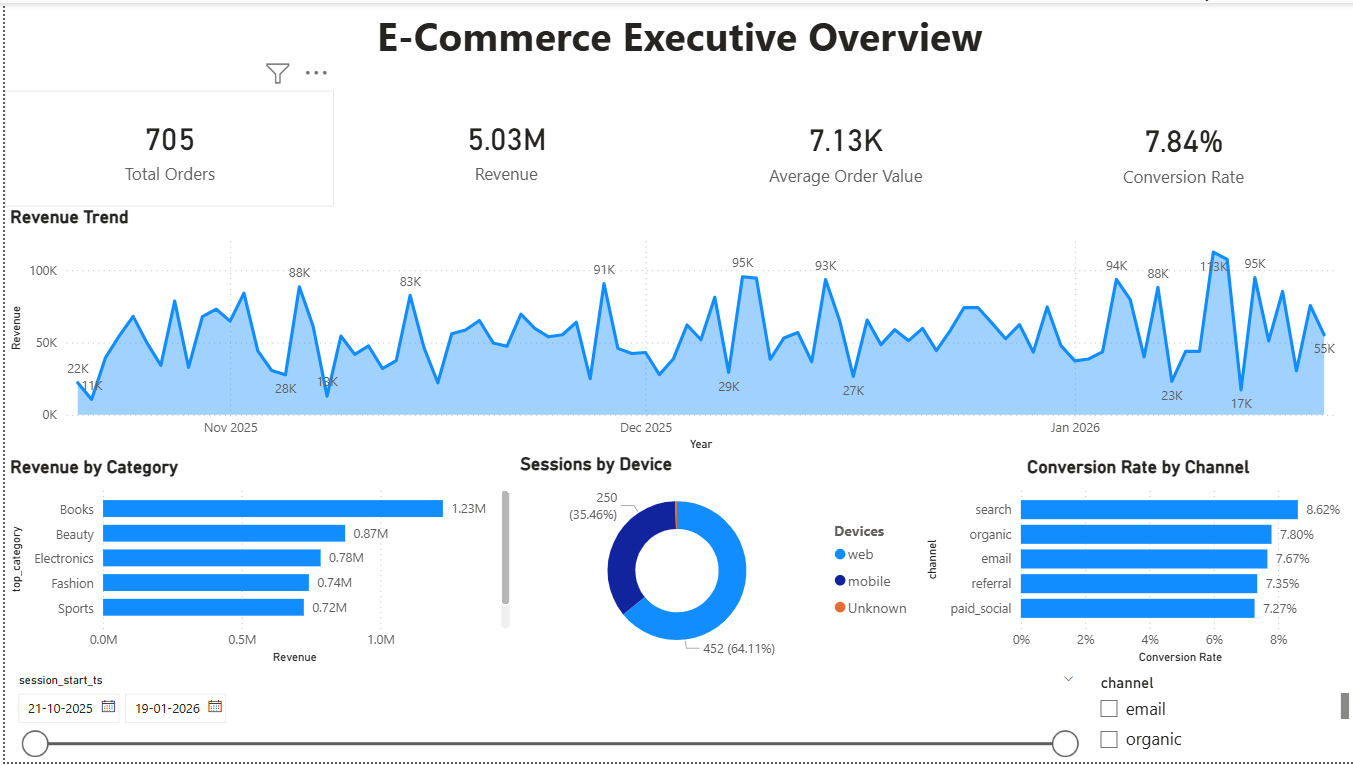

The page's visual inventory and layout, read from the dashboard file:
{"tool":"powerbi","page":{"name":"Executive Overview","canvas":[1280,720],"ordinal":0},"visuals":[{"type":"card","fields":{"Values":["fact_orders.Clean Revenue"]},"box":[312.7,83,326.5,109.3],"z":0},{"type":"card","fields":{"Values":["fact_orders.Average Order Value"]},"box":[640.6,84.4,314.1,109.3],"z":1000},{"type":"card","fields":{"Values":["fact_orders.Clean Orders"]},"box":[0,83,312.7,109.3],"z":2000},{"type":"card","fields":{"Values":["fact_sessions.Conversion Rate"]},"box":[954.6,85.8,325.1,109.3],"z":3000},{"type":"lineChart","title":"Revenue Trend","fields":{"Y":["fact_orders.Clean Revenue"],"Category":["fact_orders.order_date.Variation.Date Hierarchy.Year","fact_orders.order_date.Variation.Date Hierarchy.Quarter","fact_orders.order_date.Variation.Date Hierarchy.Month","fact_orders.order_date.Variation.Date Hierarchy.Day"]},"box":[0,192.7,1279.7,236.7],"z":4000},{"type":"clusteredBarChart","title":"Revenue by Category","fields":{"Category":["fact_orders.top_category"],"Y":["fact_orders.Clean Revenue"]},"box":[0,429.4,483.5,201.2],"z":5000},{"type":"donutChart","title":"Sessions by Device","fields":{"Y":["fact_orders.Total Orders"],"Category":["fact_sessions.Devices"]},"box":[483.5,427.7,385.4,202.9],"z":6000},{"type":"clusteredBarChart","title":"Conversion Rate by Channel","fields":{"Category":["fact_sessions.channel"],"Y":["fact_sessions.Conversion Rate"]},"box":[868.9,429.4,410.8,201.2],"z":7000},{"type":"textbox","box":[0,0,1279.8,85.8],"z":8000},{"type":"slicer","title":"Order Date","fields":{"Values":["fact_sessions.session_start_ts"]},"box":[0,630.6,1026.2,89.6],"z":9000},{"type":"slicer","fields":{"Values":["fact_sessions.channel"]},"box":[1026.2,630.6,253.6,89.6],"z":10000}]}

Visuals, with their boxes in screenshot pixels (x1, y1, x2, y2), scaled from the page's 1280x720 canvas onto the 1353x765 screenshot:
card - fact_orders.Clean Revenue: {"left": 331, "top": 88, "right": 676, "bottom": 204}
card - fact_orders.Average Order Value: {"left": 677, "top": 90, "right": 1009, "bottom": 206}
card - fact_orders.Clean Orders: {"left": 0, "top": 88, "right": 331, "bottom": 204}
card - fact_sessions.Conversion Rate: {"left": 1009, "top": 91, "right": 1352, "bottom": 207}
"Revenue Trend" lineChart: {"left": 0, "top": 205, "right": 1352, "bottom": 456}
"Revenue by Category" clusteredBarChart: {"left": 0, "top": 456, "right": 511, "bottom": 670}
"Sessions by Device" donutChart: {"left": 511, "top": 454, "right": 918, "bottom": 670}
"Conversion Rate by Channel" clusteredBarChart: {"left": 918, "top": 456, "right": 1352, "bottom": 670}
textbox: {"left": 0, "top": 0, "right": 1352, "bottom": 91}
"Order Date" slicer: {"left": 0, "top": 670, "right": 1085, "bottom": 764}
slicer - fact_sessions.channel: {"left": 1085, "top": 670, "right": 1352, "bottom": 764}
